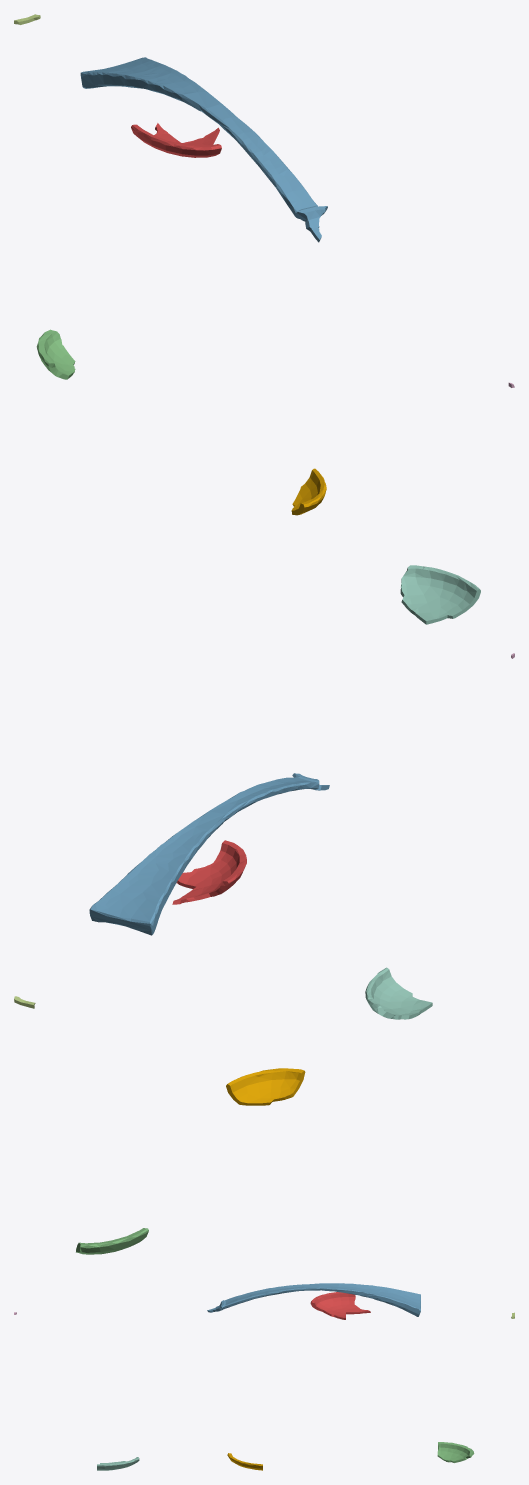
The model's file is mode_9_7pcs_transformed.glb.
3 views of the same model, one above another, from view 1: azimuth 30°, elevation 25°; view 2: azimuth 150°, elevation 25°; view 3: azimuth 270°, elevation 25° (orthographic). The views are drawn at different scales.
Visible parts, largest first — view 1: piece_2.obj, piece_4.obj, piece_1.obj, piece_3.obj, piece_0.obj; view 2: piece_2.obj, piece_1.obj, piece_0.obj, piece_4.obj, piece_3.obj; view 3: piece_2.obj, piece_1.obj, piece_3.obj, piece_4.obj, piece_0.obj.
Boxes of the visible parts, x1,y1,x2,y2 form: piece_2.obj: [80, 57, 327, 242]; piece_4.obj: [400, 565, 480, 624]; piece_1.obj: [131, 123, 221, 157]; piece_3.obj: [36, 329, 75, 379]; piece_0.obj: [291, 468, 326, 515]; piece_2.obj: [89, 773, 329, 935]; piece_1.obj: [172, 840, 246, 904]; piece_0.obj: [226, 1068, 305, 1105]; piece_4.obj: [365, 967, 432, 1019]; piece_3.obj: [76, 1228, 148, 1254]; piece_2.obj: [207, 1283, 420, 1316]; piece_1.obj: [310, 1292, 370, 1319]; piece_3.obj: [437, 1442, 474, 1462]; piece_4.obj: [97, 1457, 139, 1470]; piece_0.obj: [227, 1453, 262, 1470].
Size of the model in its own units: 0.1994 by 0.7195 by 1.81.
